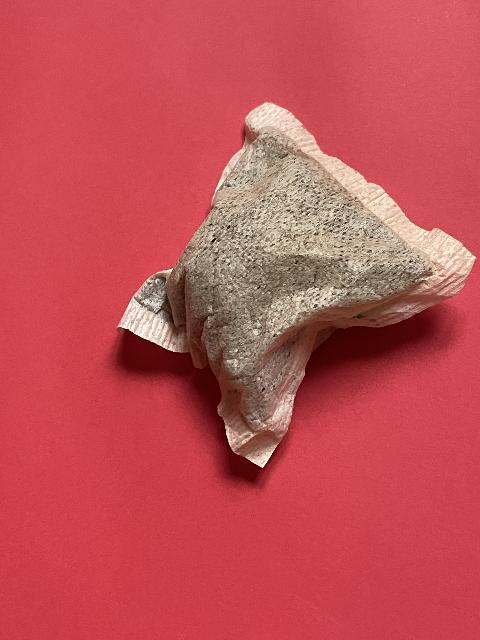teabag: (116, 100, 476, 472)
